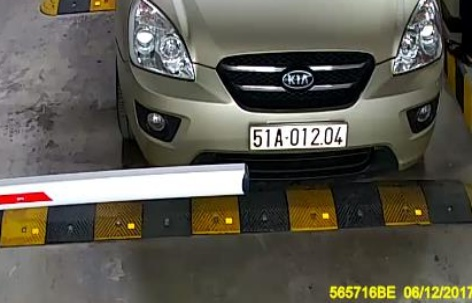plate: (245, 115, 359, 158)
